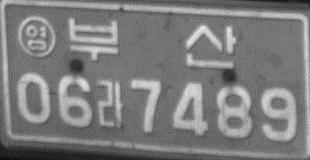0: (15, 71, 51, 124)
4: (171, 83, 208, 138)
6: (57, 74, 93, 128)
7: (129, 78, 162, 134)
8: (215, 85, 252, 140)
9: (260, 88, 297, 143)
라: (96, 79, 125, 129)
부산_D: (67, 16, 237, 69)
영: (16, 14, 57, 60)
